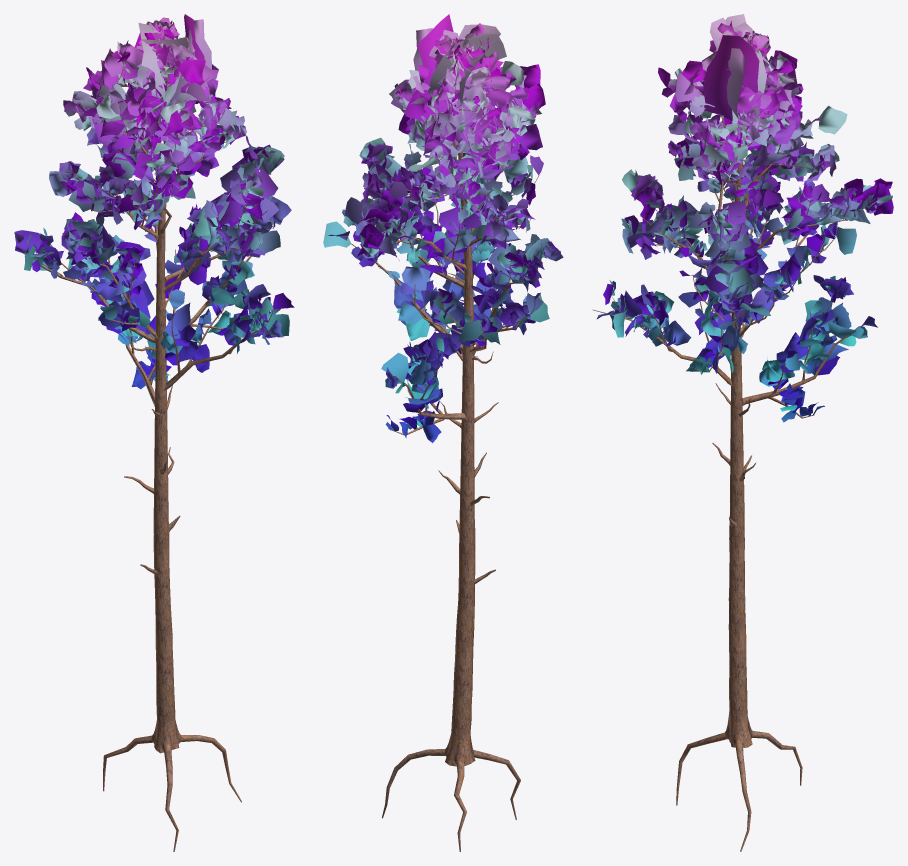
Rendered from Pine_A.fbx.
3 views of the same model, side by side, from view 1: azimuth 30°, elevation 25°; view 2: azimuth 150°, elevation 25°; view 3: azimuth 270°, elevation 25° (orthographic). The views are drawn at different scales.
Parts seen in each view (by area): view 1: Pine_A_LOD0; view 2: Pine_A_LOD0; view 3: Pine_A_LOD0.
Boxes of the visible parts, <box> form: Pine_A_LOD0: <box>14,14,294,851</box>; Pine_A_LOD0: <box>323,14,563,851</box>; Pine_A_LOD0: <box>592,14,893,851</box>.
Size of what is drawn, in the model's own units: 8.53 by 27 by 9.33.
